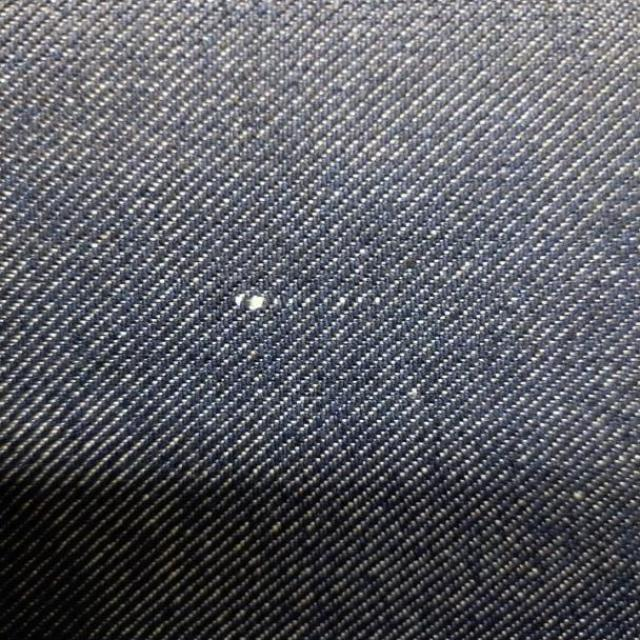Knot: (236, 291, 294, 311), (332, 297, 349, 311)
